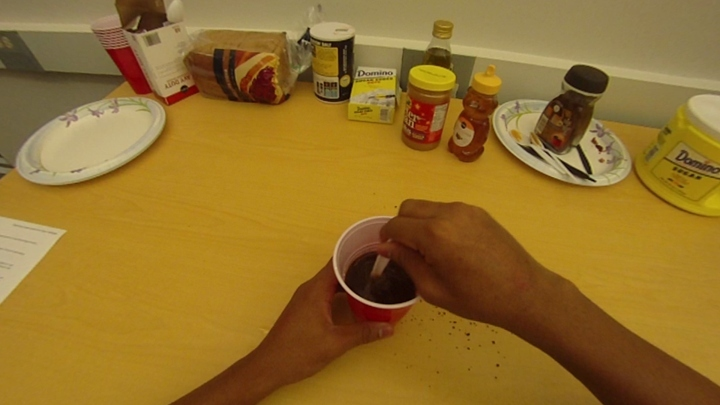hand: (376, 195, 551, 323), (272, 249, 392, 371)
